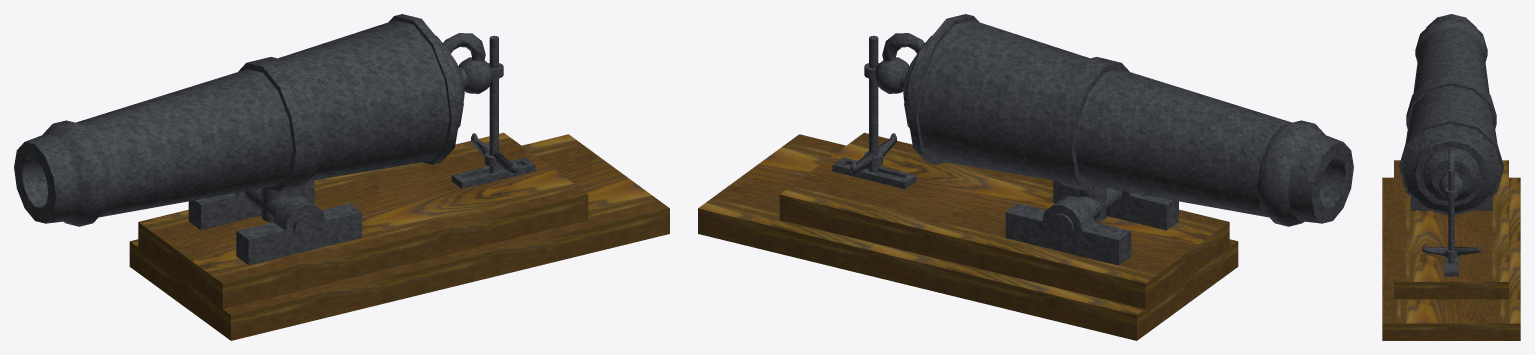
File: Carronade.fbx
3 views of the same model, side by side, from view 1: azimuth 30°, elevation 25°; view 2: azimuth 150°, elevation 25°; view 3: azimuth 270°, elevation 25° (orthographic). The views are drawn at different scales.
Parts seen in each view (by area): view 1: Carronade_Barrel1, Mounting_Plank2, Mounting_Plank1, Carronade_Gudgeon2, Carronade_Gudgeon1, Turnbuckle_Slide1, Iron_Rod1, Group2, Carronade_Lug1, Group3; view 2: Carronade_Barrel1, Mounting_Plank2, Mounting_Plank1, Carronade_Gudgeon1, Carronade_Gudgeon2, Turnbuckle_Slide1, Iron_Rod1, Group2, Carronade_Lug2, Group3; view 3: Carronade_Barrel1, Mounting_Plank2, Mounting_Plank1, Iron_Rod1, Group2, Turnbuckle_Slide1, Turnbuckle_Side1, Turnbuckle_Side2, Group3, Carronade_Gudgeon1, Carronade_Gudgeon2.
Boxes of the visible parts, x1,y1,x2,y2 form: Carronade_Barrel1: [14, 14, 464, 226]; Mounting_Plank2: [138, 132, 588, 309]; Mounting_Plank1: [129, 134, 669, 340]; Carronade_Gudgeon2: [236, 196, 361, 265]; Carronade_Gudgeon1: [188, 180, 314, 230]; Turnbuckle_Slide1: [451, 157, 535, 188]; Iron_Rod1: [489, 35, 498, 173]; Group2: [458, 57, 493, 93]; Carronade_Lug1: [263, 196, 319, 239]; Group3: [443, 33, 485, 61]; Carronade_Barrel1: [903, 14, 1353, 226]; Mounting_Plank2: [779, 132, 1229, 309]; Mounting_Plank1: [698, 134, 1238, 340]; Carronade_Gudgeon1: [1005, 196, 1131, 265]; Carronade_Gudgeon2: [1053, 180, 1178, 230]; Turnbuckle_Slide1: [832, 157, 916, 188]; Iron_Rod1: [869, 35, 878, 173]; Group2: [874, 57, 909, 93]; Carronade_Lug2: [1048, 196, 1104, 239]; Group3: [882, 33, 924, 61]; Carronade_Barrel1: [1399, 14, 1503, 214]; Mounting_Plank2: [1394, 160, 1508, 299]; Mounting_Plank1: [1382, 177, 1520, 340]; Iron_Rod1: [1448, 169, 1454, 263]; Group2: [1438, 174, 1464, 197]; Turnbuckle_Slide1: [1444, 256, 1458, 276]; Turnbuckle_Side1: [1454, 245, 1480, 255]; Turnbuckle_Side2: [1422, 245, 1448, 255]; Group3: [1448, 148, 1454, 169]; Carronade_Gudgeon1: [1476, 196, 1492, 210]; Carronade_Gudgeon2: [1410, 197, 1427, 210].
Bounding box in the file's own units: 95.84 × 35.48 × 28.8.
